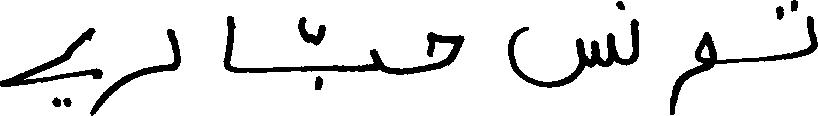X: (0, 23, 101, 115), (508, 22, 615, 92), (103, 24, 180, 107), (670, 27, 716, 115), (426, 27, 463, 75), (224, 11, 234, 77), (805, 11, 817, 60), (631, 14, 638, 68), (372, 44, 382, 76)
